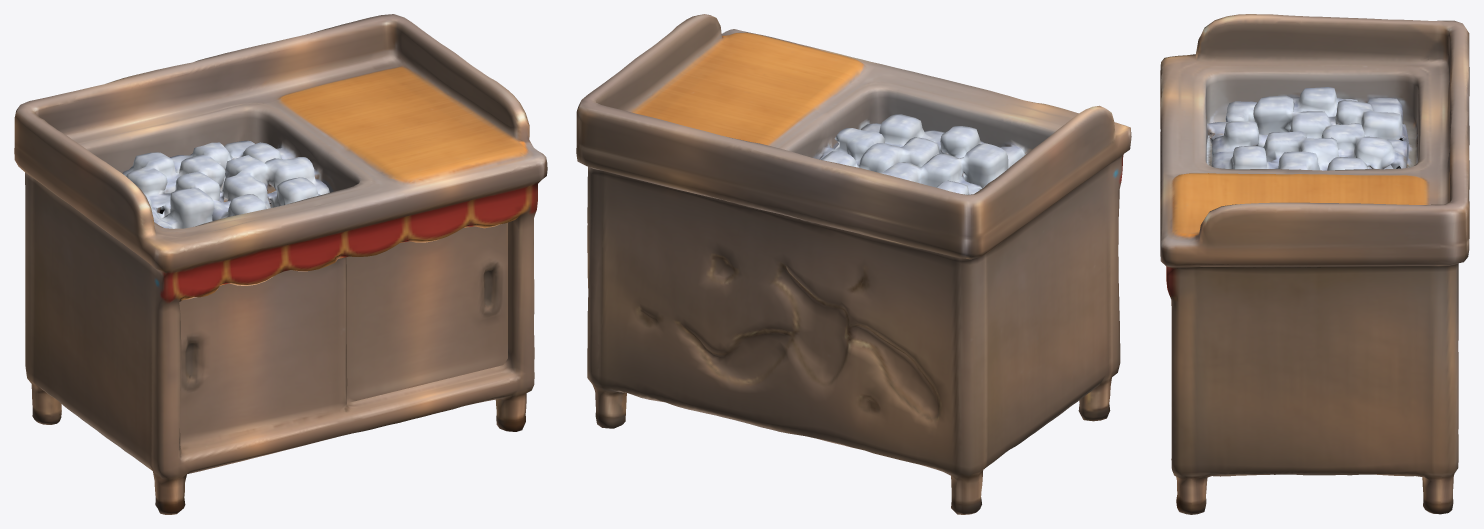
Rendered from IceboxV15AI.fbx.
The picture shows the model from 3 angles, left to right: view 1: azimuth 30°, elevation 25°; view 2: azimuth 150°, elevation 25°; view 3: azimuth 270°, elevation 25°; orthographic projection. The views are drawn at different scales.
Parts seen in each view (by area): view 1: Retopo_Mesh.001; view 2: Retopo_Mesh.001; view 3: Retopo_Mesh.001.
Part boxes in pixels (x1,y1,x2,y2): Retopo_Mesh.001: (14, 14, 547, 514); Retopo_Mesh.001: (576, 14, 1131, 514); Retopo_Mesh.001: (1160, 14, 1469, 514).
Bounding box in the file's own units: 1 × 0.7774 × 0.6831.
